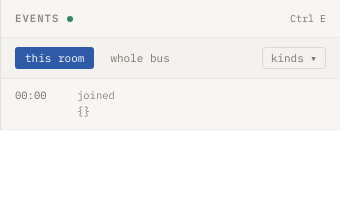
Scenario: this room scope shows only the room events, whole bus shows all
The width and height of the screenshot is (357, 198).
Expected: the number of elements with test id "event-row" is 1, [1, 79, 340, 130]
Click the button "whole bus".
click(140, 58)  # box [100, 47, 180, 69]
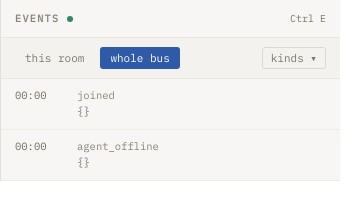
Expected: the number of elements with test id "event-row" is 2, [1, 79, 340, 130]; [1, 130, 340, 181]
